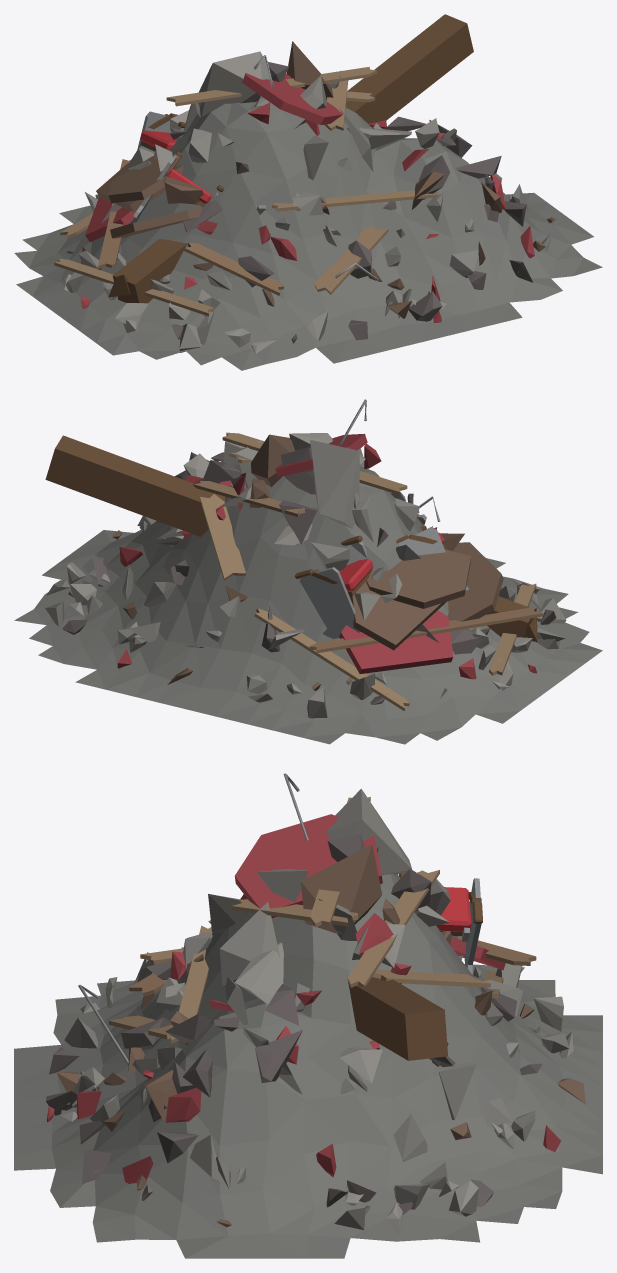
Rendered from rubble_heap_a.glb.
The picture shows the model from 3 angles, top to bottom: view 1: azimuth 30°, elevation 25°; view 2: azimuth 150°, elevation 25°; view 3: azimuth 270°, elevation 25°; orthographic projection. The views are drawn at different scales.
Parts seen in each view (by area): view 1: concrete_dark__rubble_heap_a__solid, concrete__rubble_heap_a__solid, dark_wood__rubble_heap_a__solid, ceiling_theater__rubble_heap_a__solid, stone__rubble_heap_a__solid, plank__rubble_heap_a__solid, wall_theater__rubble_heap_a__solid, wood__rubble_heap_a__solid, steel__rubble_heap_a__solid, velvet__rubble_heap_a__solid; view 2: concrete_dark__rubble_heap_a__solid, concrete__rubble_heap_a__solid, ceiling_theater__rubble_heap_a__solid, dark_wood__rubble_heap_a__solid, plank__rubble_heap_a__solid, wall_theater__rubble_heap_a__solid, stone__rubble_heap_a__solid, steel__rubble_heap_a__solid, wood__rubble_heap_a__solid, velvet__rubble_heap_a__solid; view 3: concrete_dark__rubble_heap_a__solid, concrete__rubble_heap_a__solid, stone__rubble_heap_a__solid, wall_theater__rubble_heap_a__solid, plank__rubble_heap_a__solid, ceiling_theater__rubble_heap_a__solid, dark_wood__rubble_heap_a__solid, steel__rubble_heap_a__solid, wood__rubble_heap_a__solid, velvet__rubble_heap_a__solid.
Part boxes in pixels (box(x1,y1,x2,y2)): concrete_dark__rubble_heap_a__solid: box(14, 101, 602, 370); concrete__rubble_heap_a__solid: box(63, 51, 550, 353); dark_wood__rubble_heap_a__solid: box(108, 14, 473, 303); ceiling_theater__rubble_heap_a__solid: box(96, 41, 555, 318); stone__rubble_heap_a__solid: box(67, 62, 532, 343); plank__rubble_heap_a__solid: box(54, 66, 437, 316); wall_theater__rubble_heap_a__solid: box(80, 73, 534, 322); wood__rubble_heap_a__solid: box(98, 159, 284, 295); steel__rubble_heap_a__solid: box(133, 55, 379, 281); velvet__rubble_heap_a__solid: box(140, 130, 211, 203); concrete_dark__rubble_heap_a__solid: box(14, 466, 602, 744); concrete__rubble_heap_a__solid: box(45, 433, 566, 718); ceiling_theater__rubble_heap_a__solid: box(112, 434, 503, 690); dark_wood__rubble_heap_a__solid: box(45, 435, 537, 641); plank__rubble_heap_a__solid: box(193, 432, 536, 710); wall_theater__rubble_heap_a__solid: box(117, 433, 536, 679); stone__rubble_heap_a__solid: box(62, 447, 556, 704); steel__rubble_heap_a__solid: box(294, 399, 468, 638); wood__rubble_heap_a__solid: box(309, 607, 543, 653); velvet__rubble_heap_a__solid: box(339, 534, 444, 591); concrete_dark__rubble_heap_a__solid: box(14, 874, 602, 1258); concrete__rubble_heap_a__solid: box(61, 788, 573, 1238); stone__rubble_heap_a__solid: box(46, 833, 542, 1214); wall_theater__rubble_heap_a__solid: box(47, 814, 560, 1183); plank__rubble_heap_a__solid: box(108, 796, 503, 1043); ceiling_theater__rubble_heap_a__solid: box(56, 844, 585, 1227); dark_wood__rubble_heap_a__solid: box(348, 871, 482, 1060); steel__rubble_heap_a__solid: box(78, 773, 481, 1071); wood__rubble_heap_a__solid: box(129, 936, 536, 996); velvet__rubble_heap_a__solid: box(436, 887, 471, 931).
Size of the model in its own units: 5 by 2.29 by 4.
